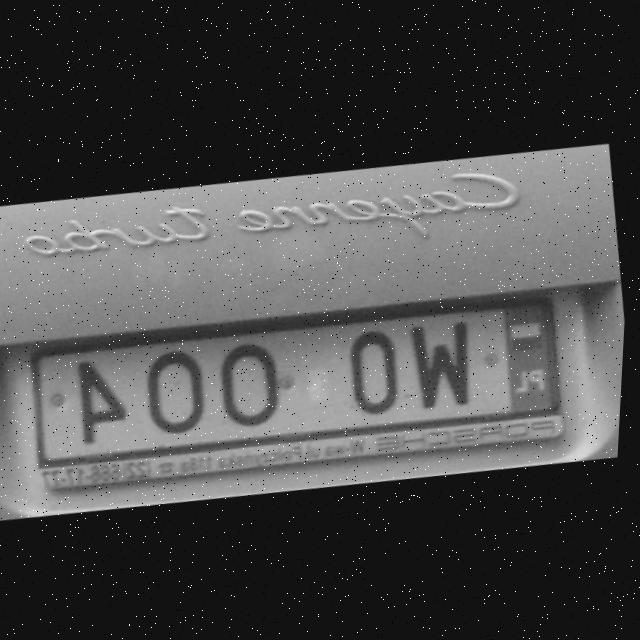license-plates: (34, 301, 558, 465)
